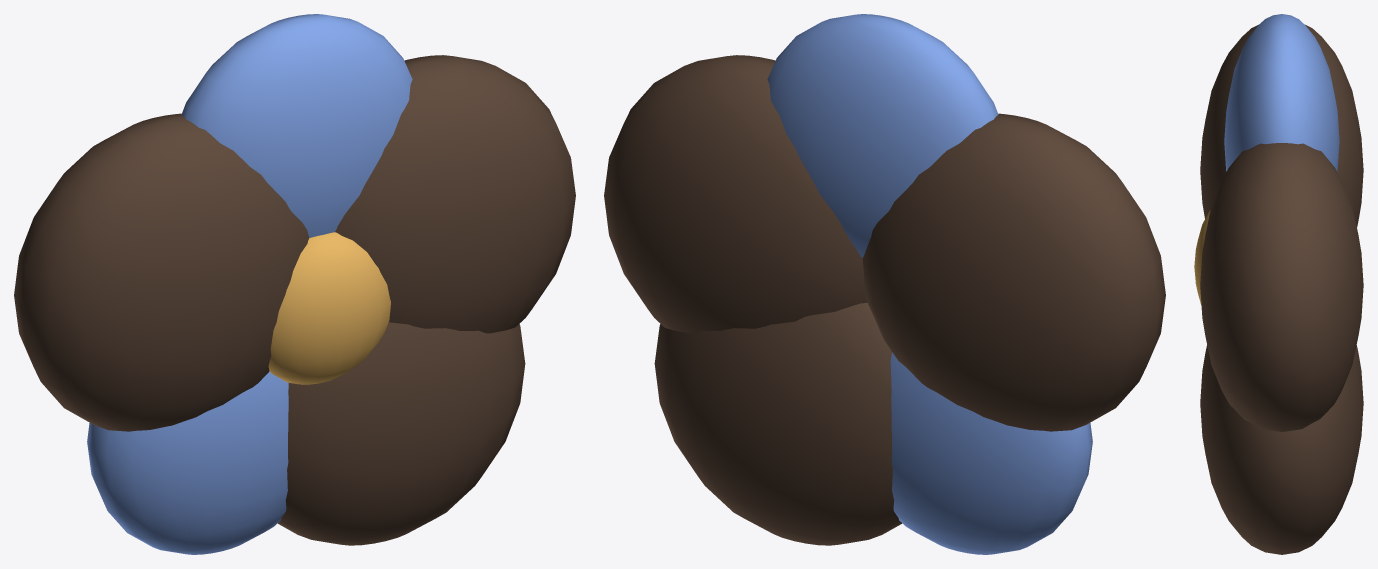
Rendered from acc_flower.glb.
The picture shows the model from 3 angles, left to right: view 1: azimuth 30°, elevation 25°; view 2: azimuth 150°, elevation 25°; view 3: azimuth 270°, elevation 25°; orthographic projection. The views are drawn at different scales.
Parts seen in each view (by area): view 1: acc_flower; view 2: acc_flower; view 3: acc_flower.
Boxes of the visible parts, <box> form: acc_flower: <box>14,14,575,554</box>; acc_flower: <box>604,14,1165,554</box>; acc_flower: <box>1194,14,1363,554</box>.
Bounding box in the file's own units: 0.1064 × 0.0997 × 0.0317.
